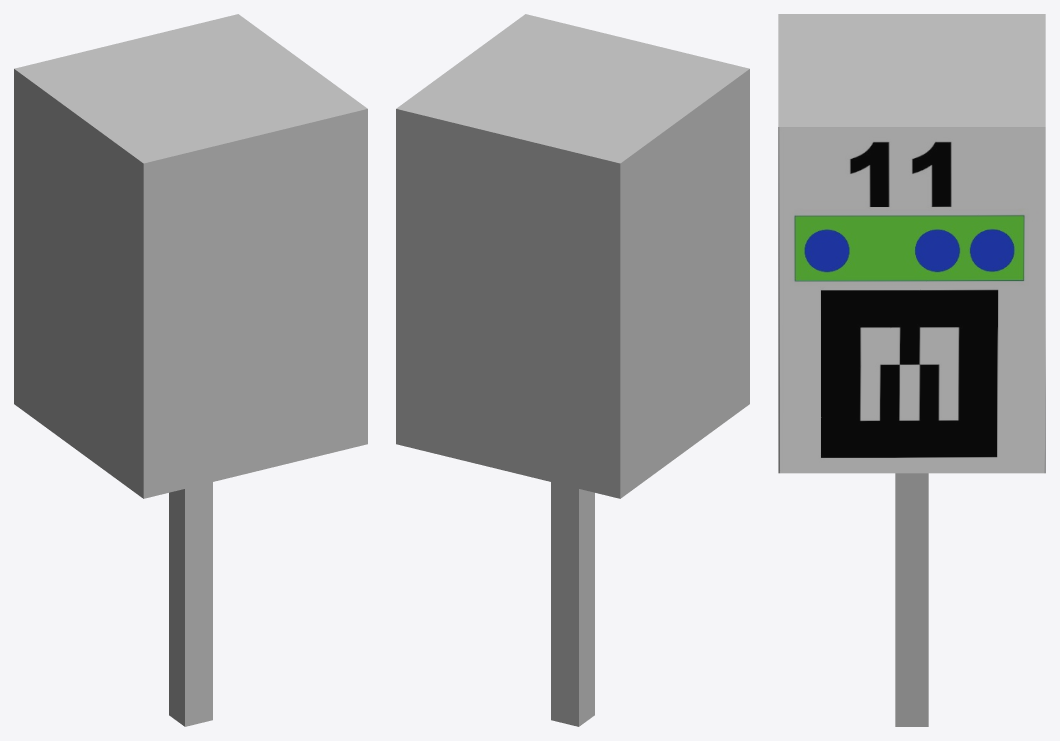
3 views of the same model, side by side, from view 1: azimuth 30°, elevation 25°; view 2: azimuth 150°, elevation 25°; view 3: azimuth 270°, elevation 25° (orthographic). The views are drawn at different scales.
Parts seen in each view (by area): view 1: Cube; view 2: Cube; view 3: Cube.
Part boxes in pixels (<box>): Cube: <box>14,14,367,726</box>; Cube: <box>396,14,749,726</box>; Cube: <box>778,14,1045,726</box>.
Bounding box in the file's own units: 280 × 280 × 750.
